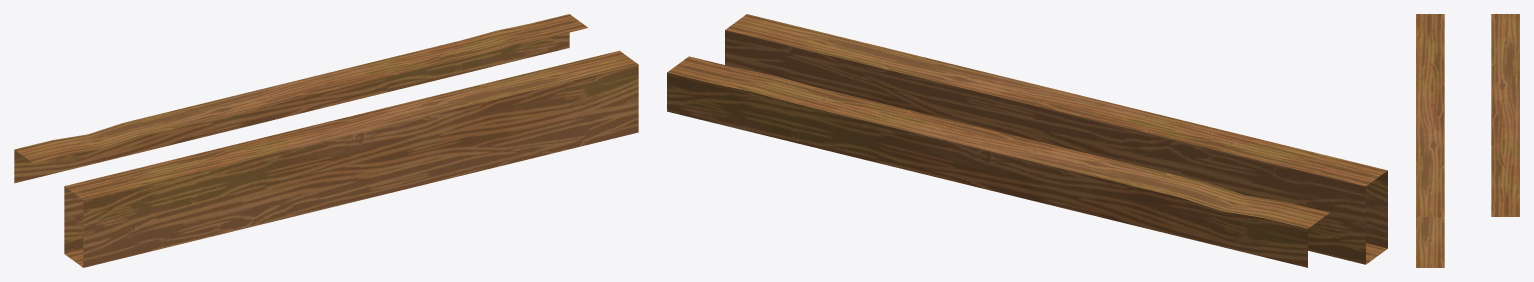
Rendered from Wall_BottomCover.glb.
3 renders of one model, left to right at view 1: azimuth 30°, elevation 25°; view 2: azimuth 150°, elevation 25°; view 3: azimuth 270°, elevation 25°, orthographic. The views are drawn at different scales.
Parts seen in each view (by area): view 1: Wall_BottomCover; view 2: Wall_BottomCover; view 3: Wall_BottomCover.
Part boxes in pixels (box(x1,y1,x2,y2)): Wall_BottomCover: box(14, 14, 638, 267); Wall_BottomCover: box(667, 14, 1387, 267); Wall_BottomCover: box(1416, 14, 1519, 267).
Size of the model in its own units: 2 by 0.2376 by 0.4317.
1 material, 1 textured.
